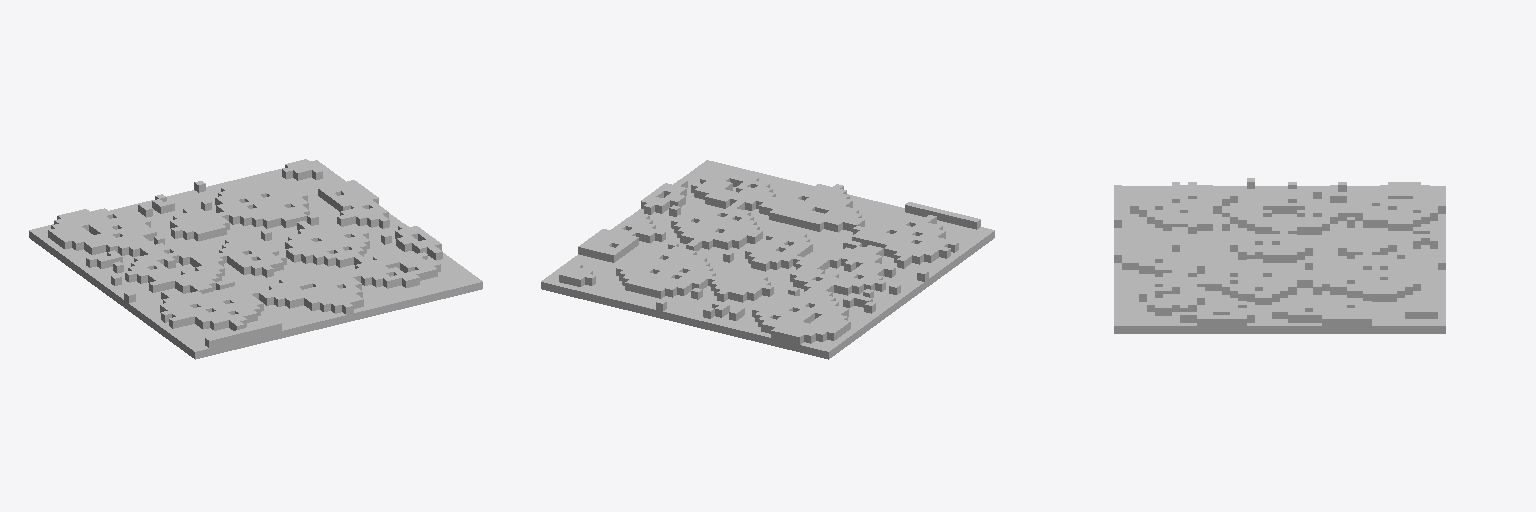
Rendered from Grass floor.obj.
The picture shows the model from 3 angles: view 1: azimuth 30°, elevation 25°; view 2: azimuth 150°, elevation 25°; view 3: azimuth 270°, elevation 25°; orthographic projection.
Parts seen in each view (by area): view 1: object 1; view 2: object 1; view 3: object 1.
Boxes of the visible parts, x1=… form: object 1: x1=29, y1=159, x2=482, y2=359; object 1: x1=541, y1=160, x2=994, y2=359; object 1: x1=1114, y1=178, x2=1445, y2=333.
Bounding box in the file's own units: 4 × 0.2 × 4.